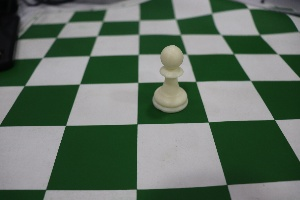white_pawn: (137, 29, 203, 119)
